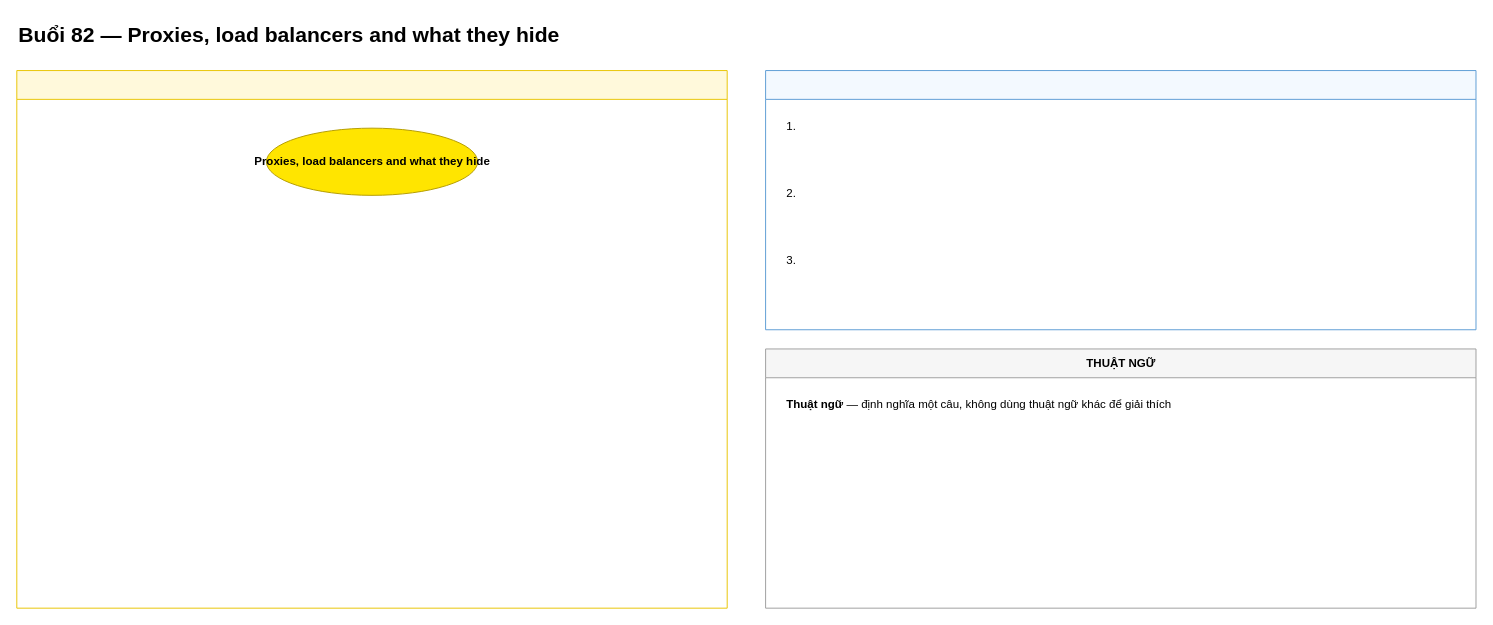
The diagram is 1493 pixels wide and 625 high, and some of its shapes have lost their labels. The box of each missing label's shape, as (x1, y1, x2, y2) in pixels:
KEY TAKEAWAY — ba điều phải nhớ: (765, 70, 1476, 330)
MINDMAP: (16, 70, 727, 608)
